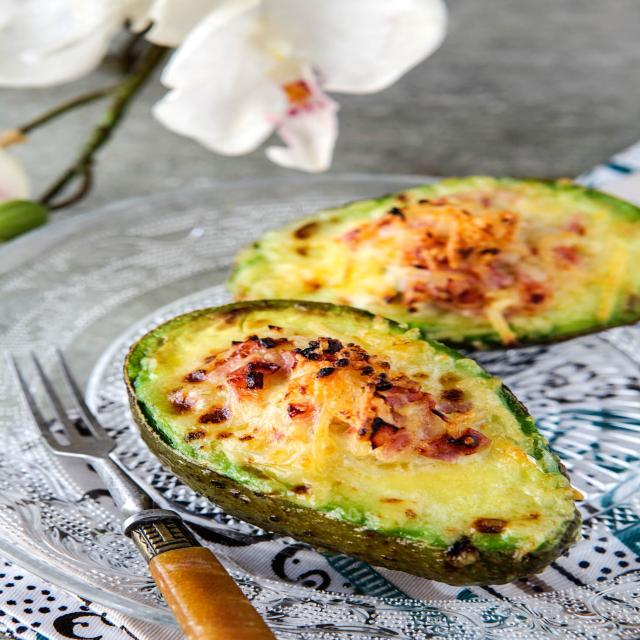aguacate: (109, 294, 592, 591)
